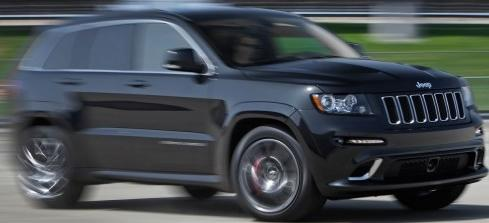front_view: (310, 79, 488, 191)
headlight: (308, 89, 373, 118)
side_glass: (31, 28, 213, 81)
